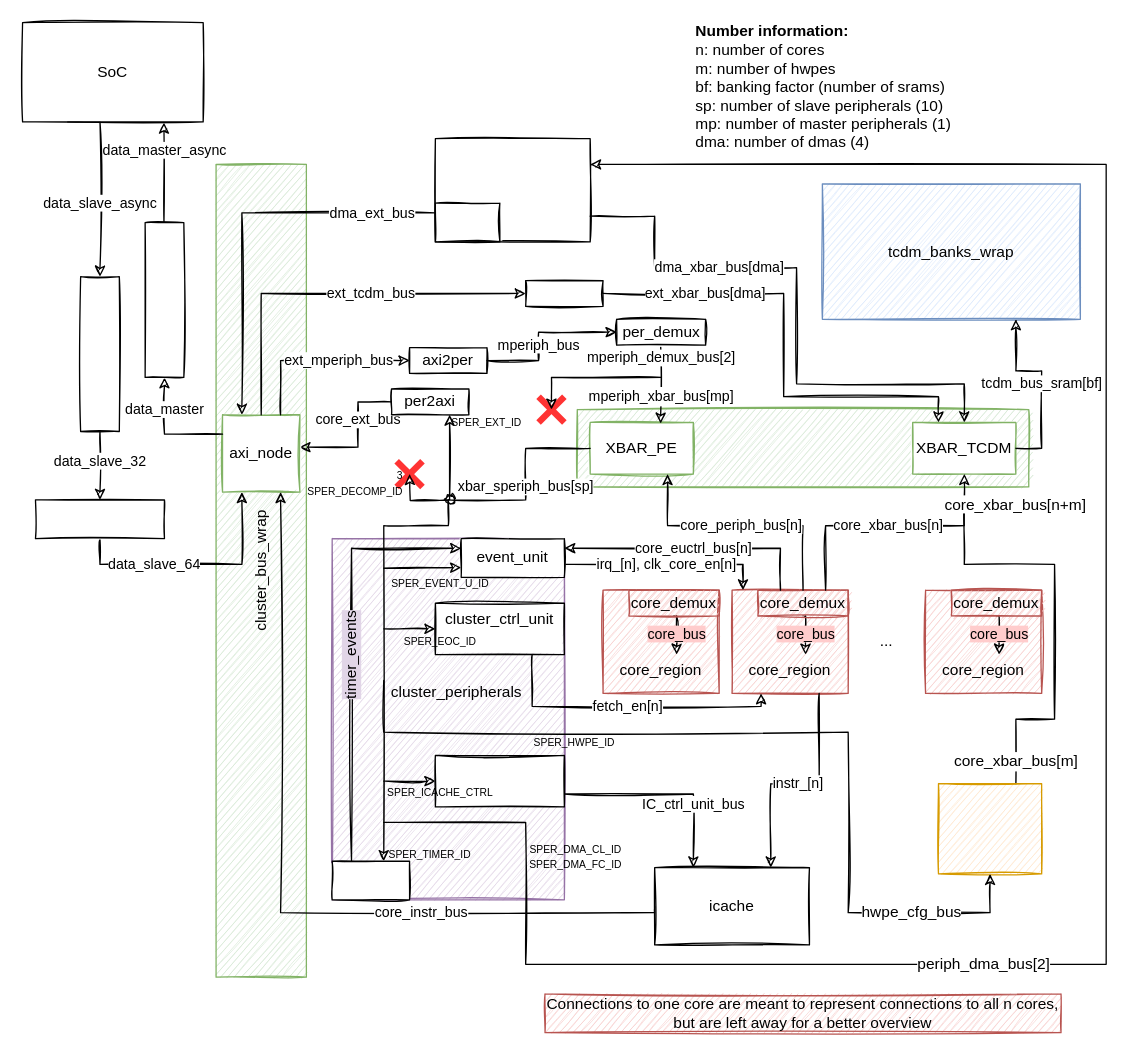
The diagram is 1139 pixels wide and 1055 high, and some of its shapes have lost their labels. The shapes that lost their labels are listed below. From the top down, each one's box as (x1, y1, x2, y2) in pixels, then its label:
(434, 137, 590, 242): dma
(434, 202, 500, 242): mchan
(144, 221, 184, 377): axi_slice_dc_slave
(524, 279, 603, 306): axi2mem
(79, 275, 119, 432): axi_slice_dc_master
(576, 408, 1029, 487): cluster_interconnect_wrap
(34, 499, 164, 539): axi_UPSIZE
(434, 754, 564, 807): icache_ctrl_unit
(937, 782, 1042, 874): HWPE
(331, 860, 410, 900): timer
